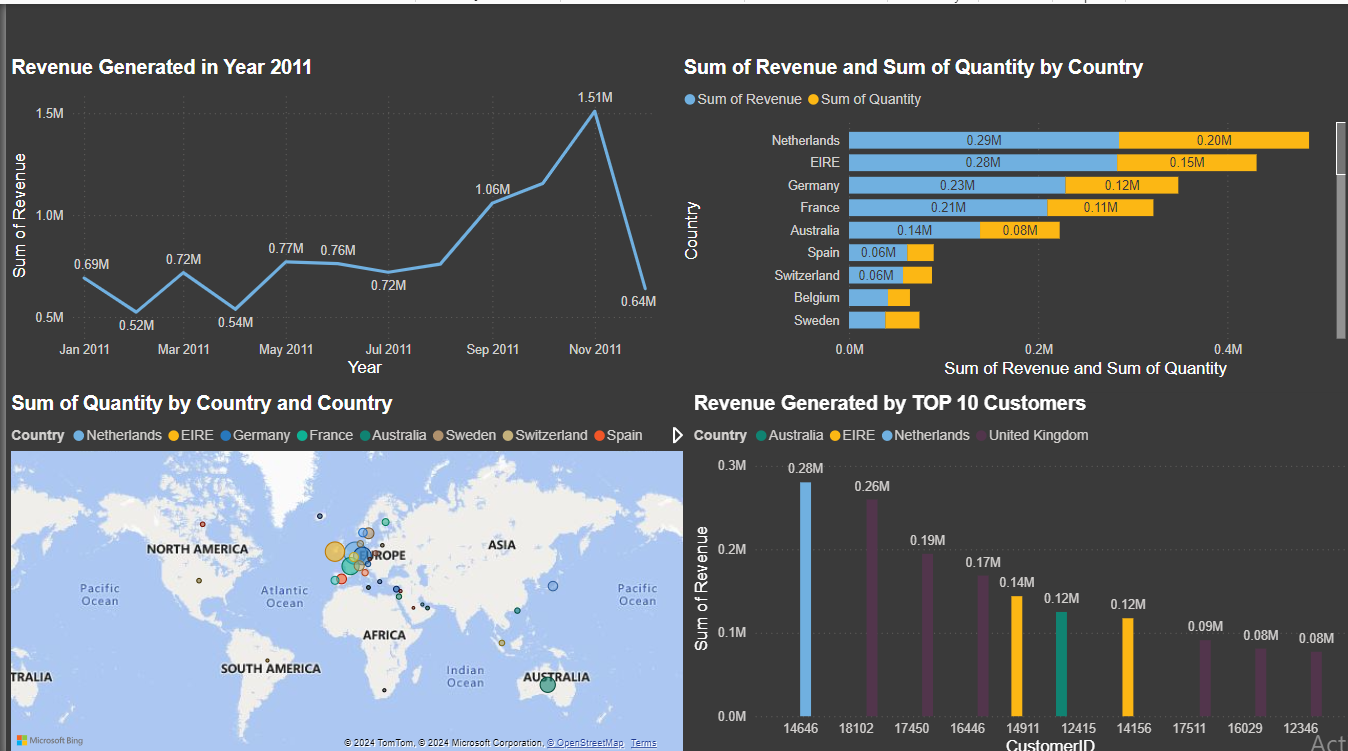

The page's visual inventory and layout, read from the dashboard file:
{"tool":"powerbi","page":{"name":"Page 1","canvas":[1280,720],"ordinal":0},"visuals":[{"type":"lineChart","title":"Revenue Generated in Year 2011","fields":{"Y":["Sum(Online Retail.Revenue)"],"Category":["Online Retail.InvoiceDate.Variation.Date Hierarchy.Year","Online Retail.InvoiceDate.Variation.Date Hierarchy.Month"]},"box":[0,50.1,640,310.3],"z":0},{"type":"map","title":"Sum of Quantity by Country and Country","fields":{"Category":["Online Retail.Country"],"Size":["Sum(Online Retail.Quantity)"],"Series":["Online Retail.Country"]},"box":[0,370.1,649.7,350.6],"z":1000},{"type":"barChart","fields":{"Y":["Sum(Online Retail.Revenue)","Sum(Online Retail.Quantity)"],"Category":["Online Retail.Country"]},"box":[640,50.1,640,310.3],"z":2000},{"type":"clusteredColumnChart","title":"Revenue Generated by TOP 10 Customers","fields":{"Y":["Sum(Online Retail.Revenue)"],"Category":["Online Retail.CustomerID"],"Series":["Online Retail.Country"]},"box":[649.7,370.1,630.3,350.6],"z":3000}]}

Visuals, with their boxes in screenshot pixels (x1, y1, x2, y2), scaled from the page's 1280x720 canvas onto the 1348x751 screenshot:
"Revenue Generated in Year 2011" lineChart: 0/52/674/376
"Sum of Quantity by Country and Country" map: 0/386/684/750
barChart - Sum(Online Retail.Revenue) x Sum(Online Retail.Quantity): 674/52/1347/376
"Revenue Generated by TOP 10 Customers" clusteredColumnChart: 684/386/1347/750
